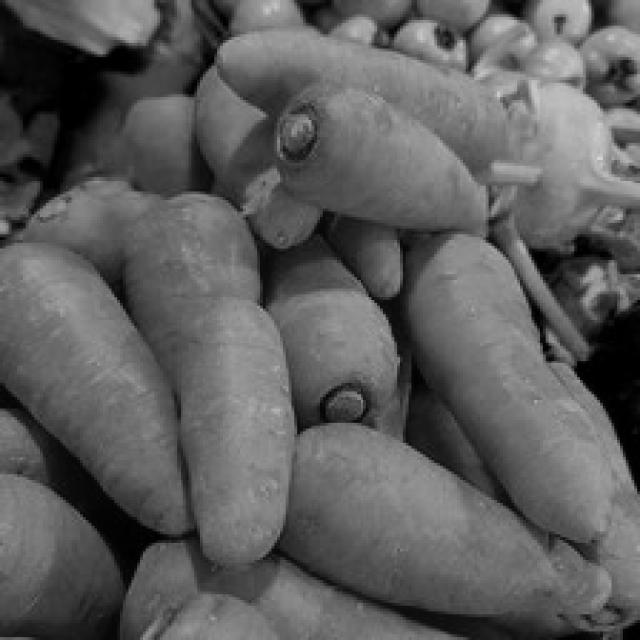Fresh_Carrot: (303, 417, 606, 634), (404, 232, 609, 530), (4, 234, 192, 535), (174, 302, 294, 551)
